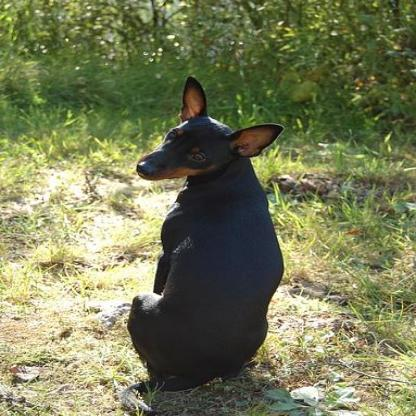miniature_pinscher: (115, 75, 288, 413)
